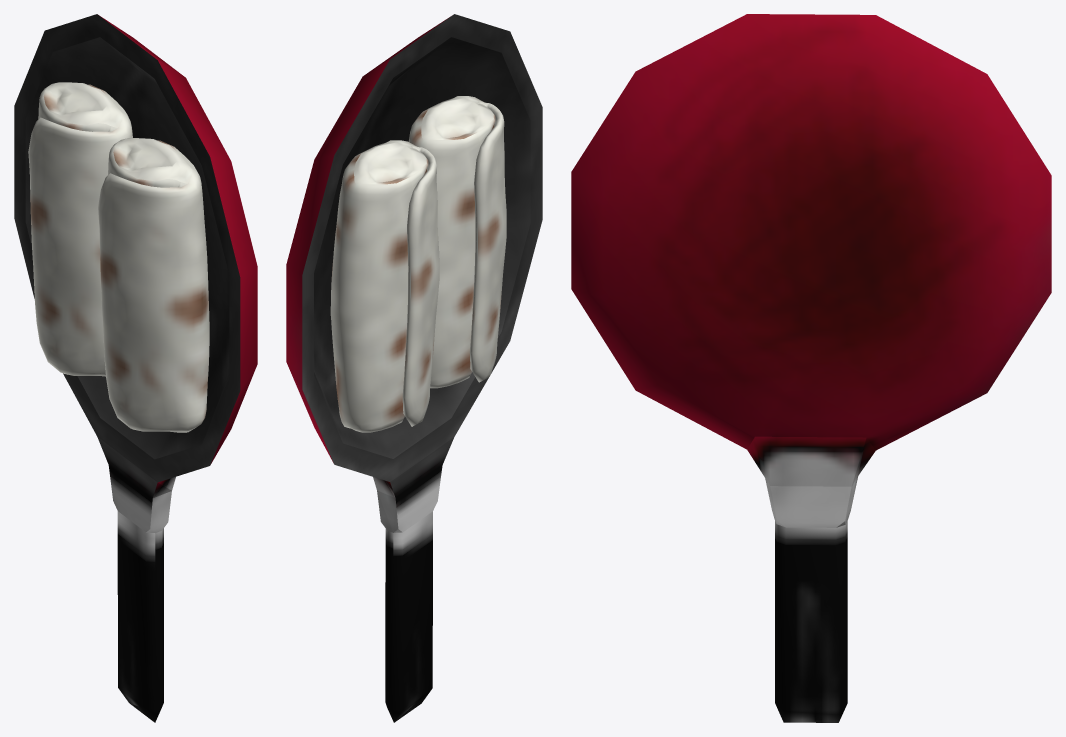
File: AL_Chivichangas_Static.fbx
3 views of the same model, side by side, from view 1: azimuth 30°, elevation 25°; view 2: azimuth 150°, elevation 25°; view 3: azimuth 270°, elevation 25° (orthographic). The views are drawn at different scales.
Parts seen in each view (by area): view 1: g Test; view 2: g Test; view 3: g Test.
Boxes of the visible parts, x1,y1,x2,y2 form: g Test: [14, 14, 257, 722]; g Test: [286, 14, 542, 722]; g Test: [571, 14, 1051, 722].
Size of the model in its own units: 0.4341 by 0.6984 by 0.1021.
